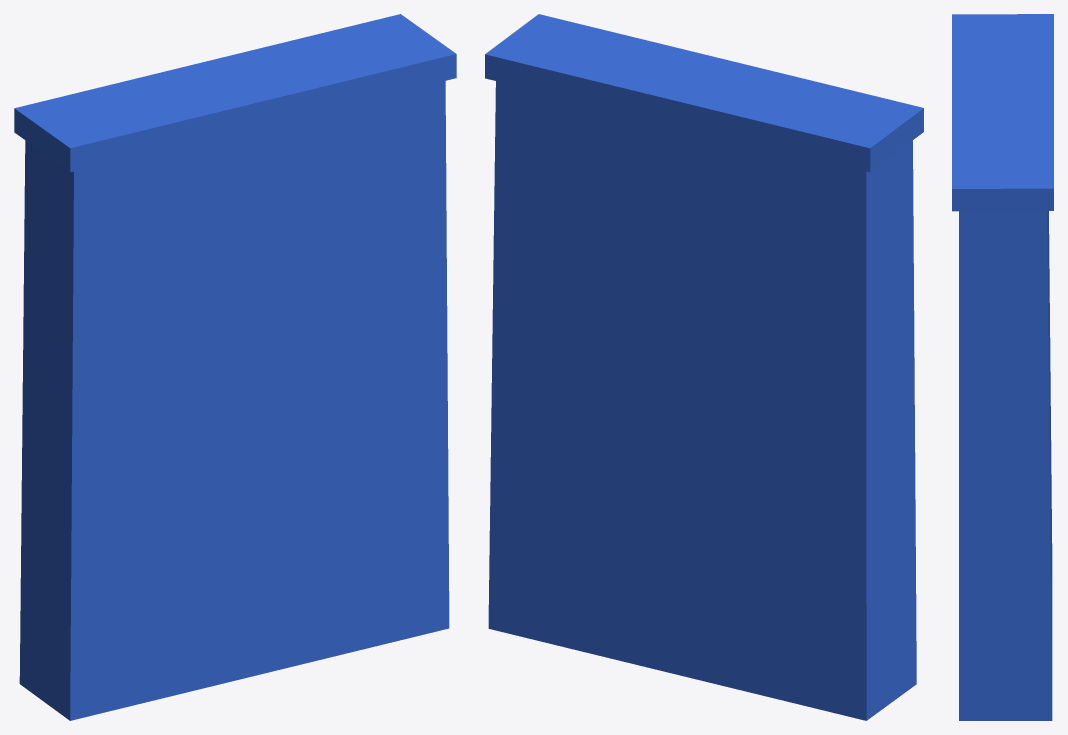
Rendered from Collision_Bookcase_1.fbx.
3 views of the same model, side by side, from view 1: azimuth 30°, elevation 25°; view 2: azimuth 150°, elevation 25°; view 3: azimuth 270°, elevation 25° (orthographic). The views are drawn at different scales.
Visible parts, largest first — view 1: UCX_Bookcase_1_1, UCX_Bookcase_1_2; view 2: UCX_Bookcase_1_1, UCX_Bookcase_1_2; view 3: UCX_Bookcase_1_1, UCX_Bookcase_1_2.
Boxes of the visible parts, left/top/right/bottom form: UCX_Bookcase_1_1: left=19, top=81, right=449, bottom=720; UCX_Bookcase_1_2: left=14, top=14, right=456, bottom=172; UCX_Bookcase_1_1: left=488, top=81, right=916, bottom=720; UCX_Bookcase_1_2: left=485, top=14, right=923, bottom=172; UCX_Bookcase_1_1: left=959, top=211, right=1052, bottom=720; UCX_Bookcase_1_2: left=952, top=14, right=1053, bottom=211.
Size of the model in its own units: 174 by 247 by 42.7.
